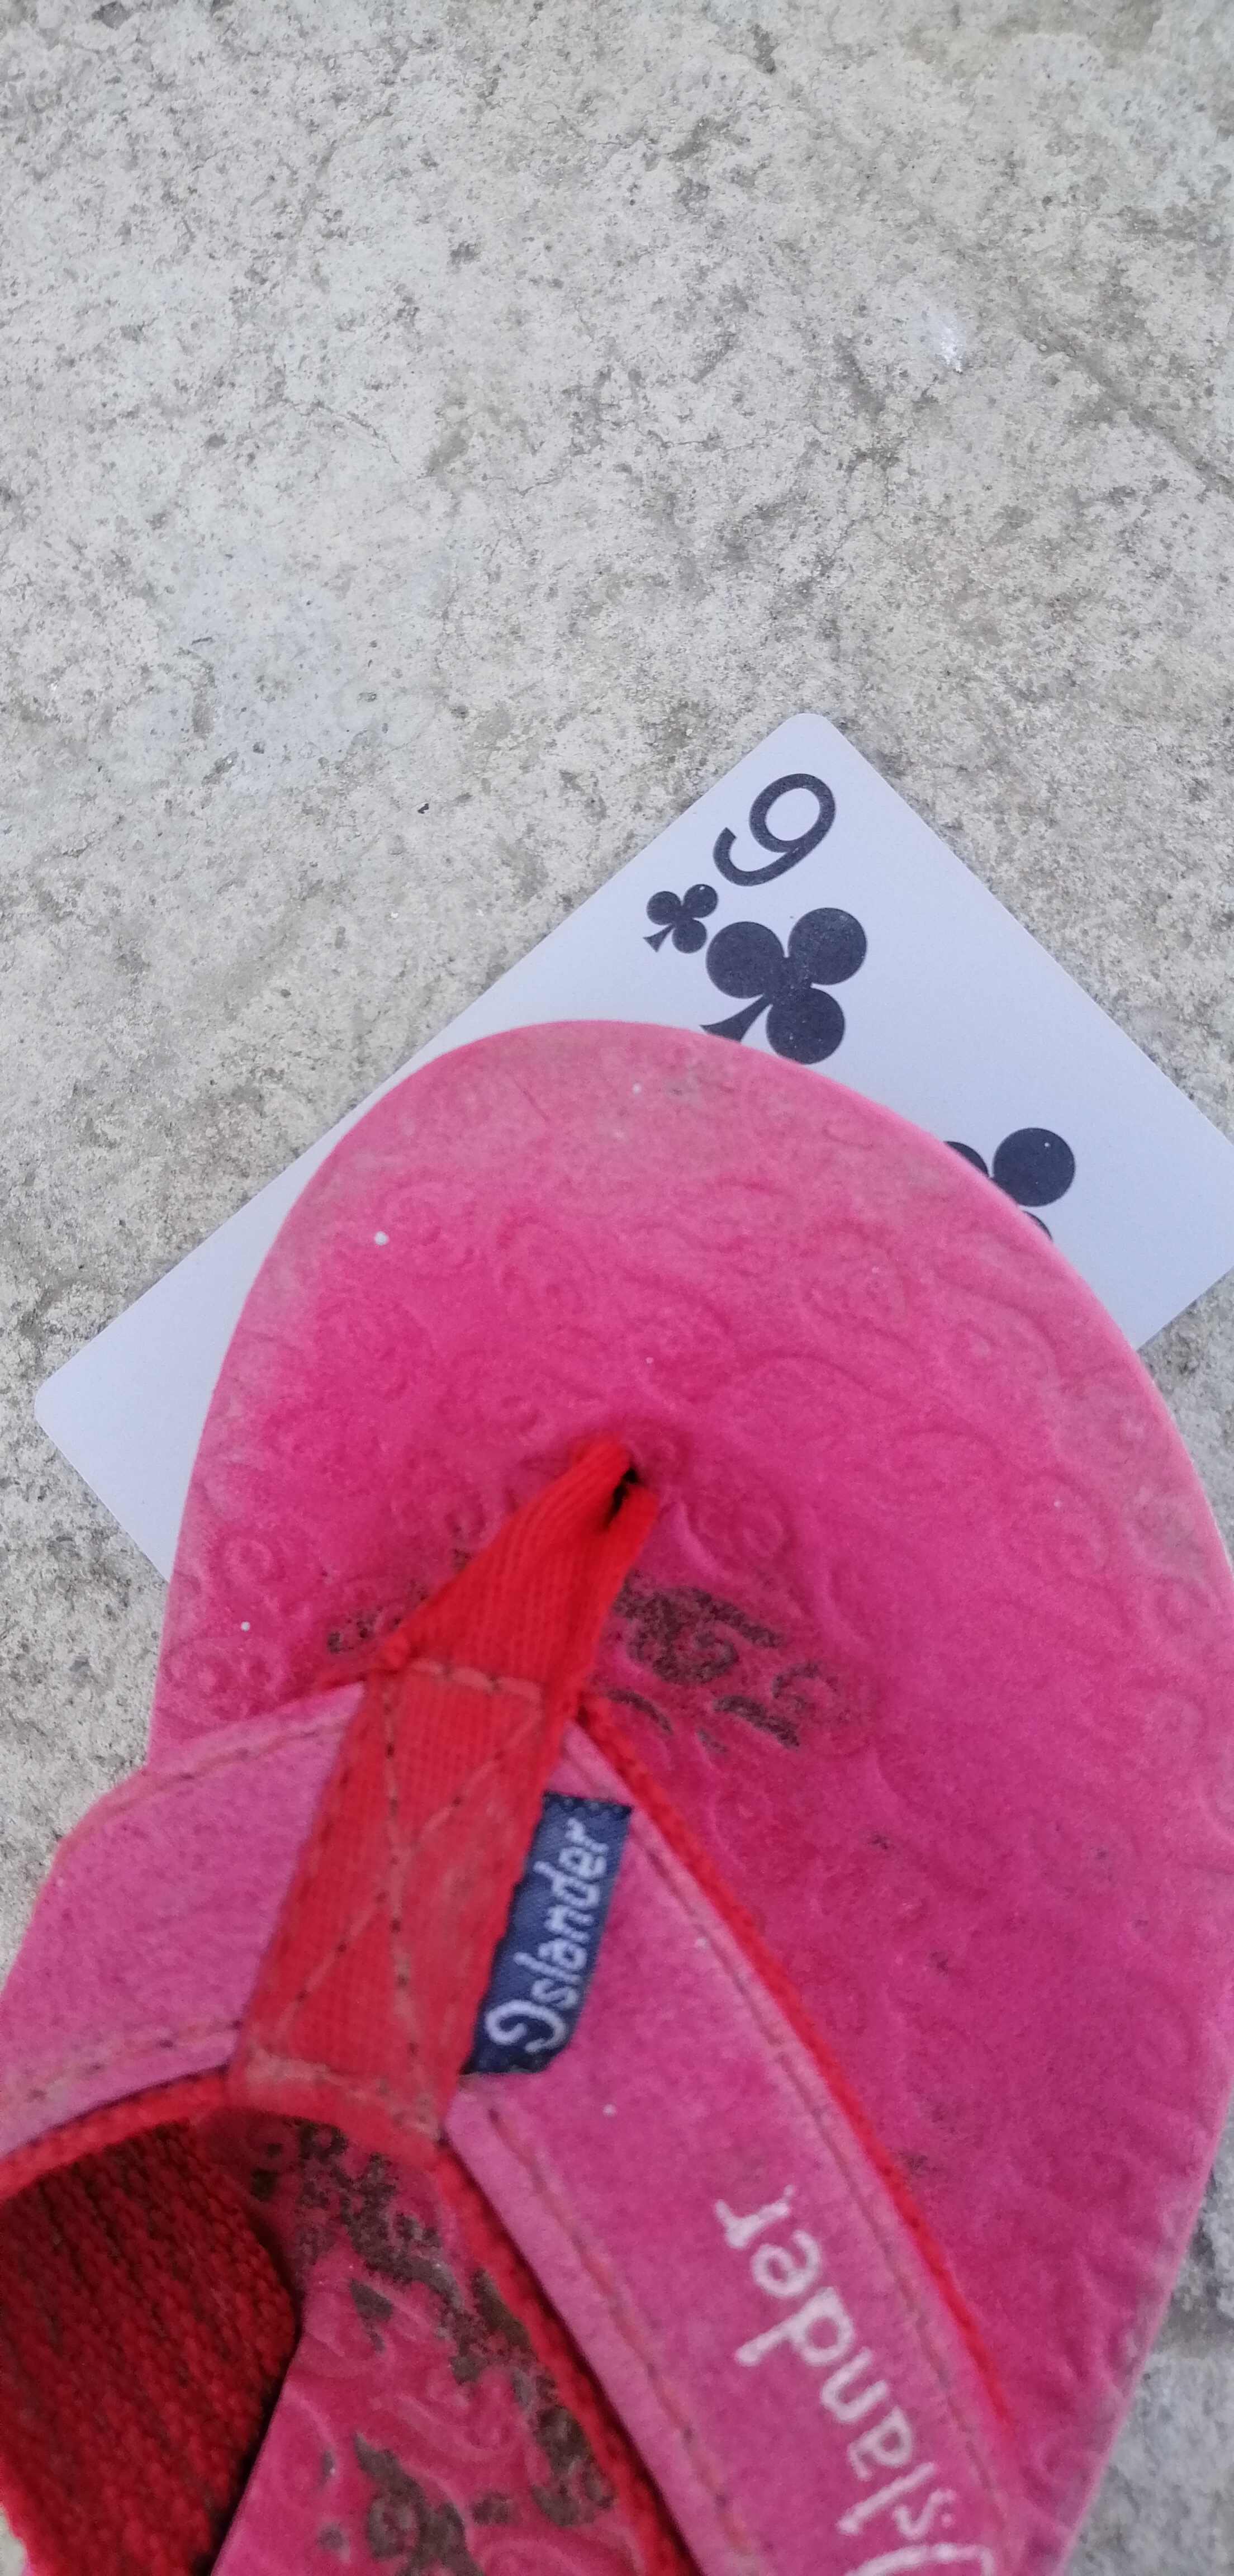nine: (463, 683, 1234, 1388)
